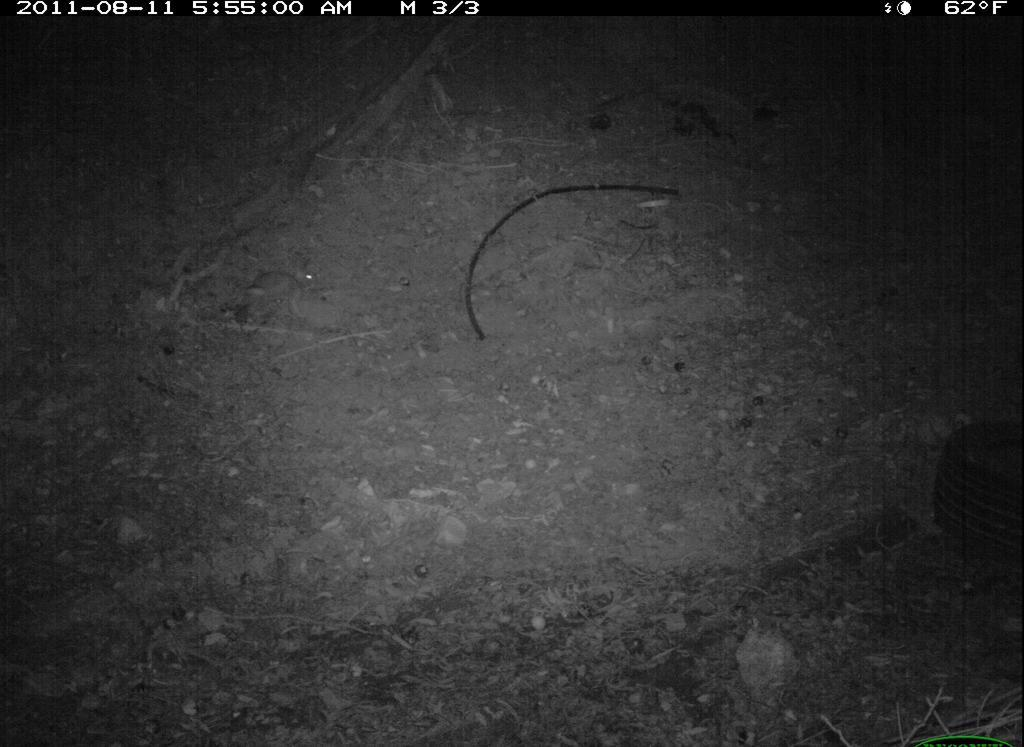rabbit: (232, 252, 330, 329)
